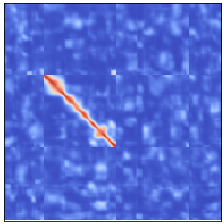action_path: (41, 75, 116, 149)
